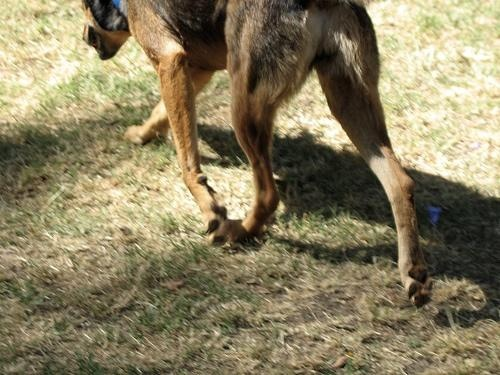dog: (82, 1, 433, 308)
